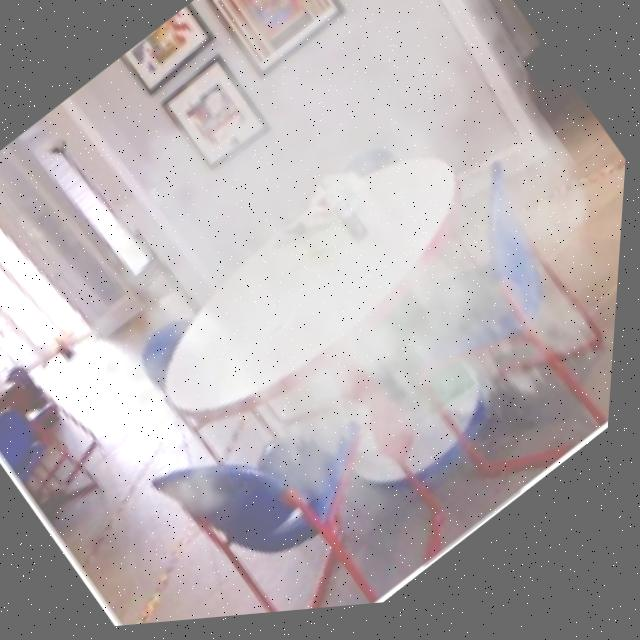Smoke: (0, 0, 628, 622)
